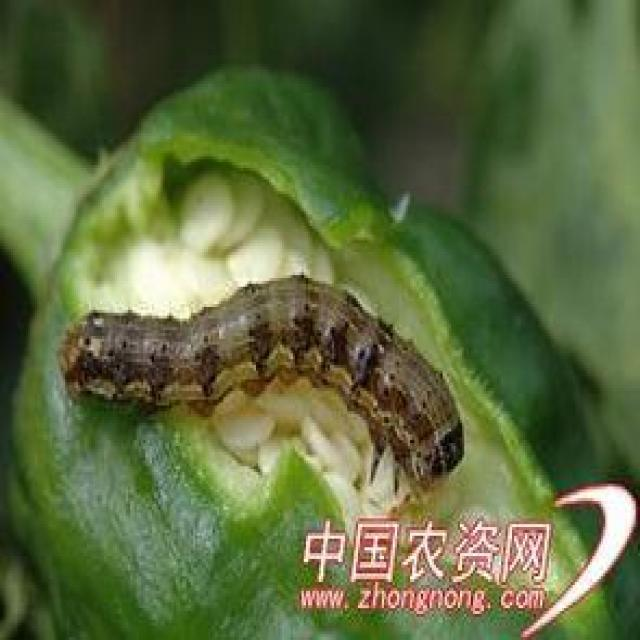BeetArmyWorm-Larva-: (47, 275, 482, 509)
